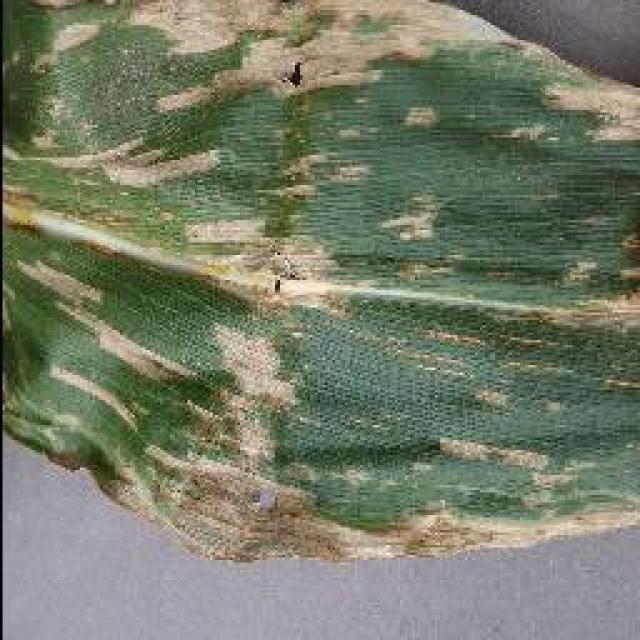Corn_Grey_Leaf_Spot: (10, 0, 640, 538)
